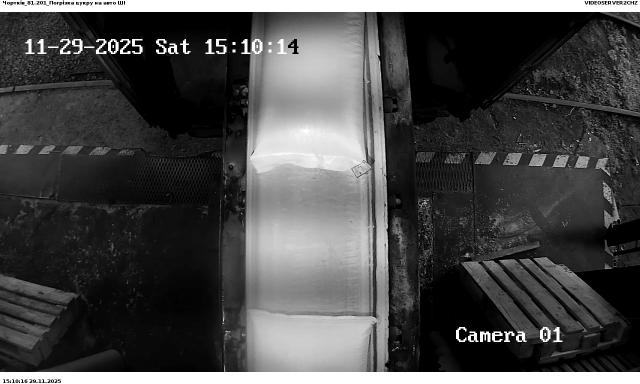bag: (251, 13, 372, 173), (248, 310, 379, 372)
